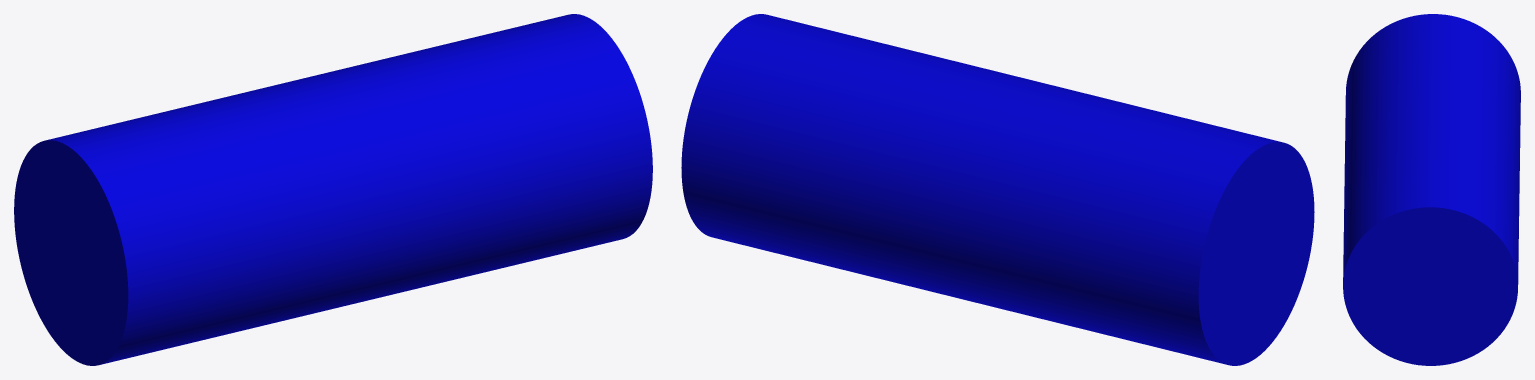
File: BENTLEY_materials_line_style.gltf
3 views of the same model, side by side, from view 1: azimuth 30°, elevation 25°; view 2: azimuth 150°, elevation 25°; view 3: azimuth 270°, elevation 25° (orthographic). The views are drawn at different scales.
Bounding box in the file's own units: 7.61 × 2.9 × 2.95.
